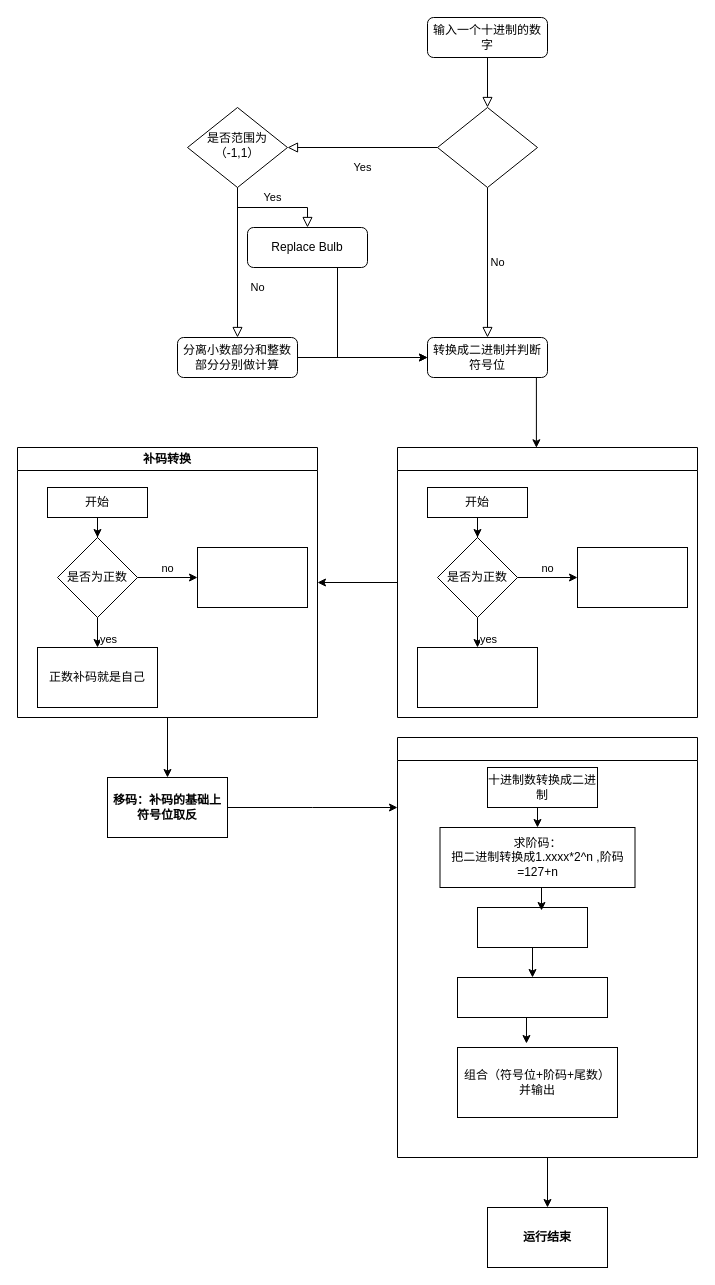
Some shapes in this 715 by 1285 pixel diagram are drawn without their labels. The shapes that lost their labels are listed below. From the top down, each one's box as (x1, y1, x2, y2) in pixels, then its label:
(436, 106, 538, 188): 是否包含小数点
(196, 546, 308, 608): 反码的基础上数值位+1
(396, 446, 698, 718): 反码转换
(576, 546, 688, 608): 符号位不变，数值位按位取反
(416, 646, 538, 708): 正数反码就是自己
(476, 906, 588, 948): 阶码前面补齐0凑到8位
(396, 736, 698, 1158): IEEE754单精度浮点数
(456, 976, 608, 1018): 1.xxxx*2^n取xxxxx，后面补齐0凑到23位
